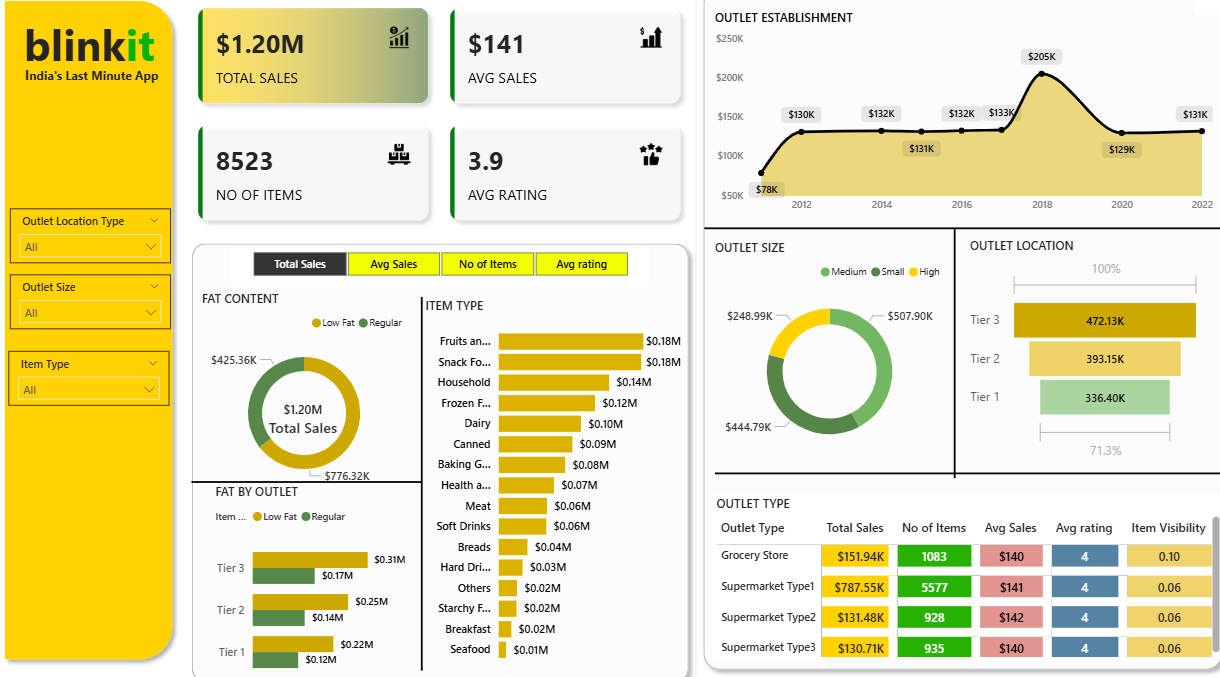

Layout of this report page (visuals, bound fields, positions):
{"tool":"powerbi","page":{"name":"Page 1","canvas":[1400,800],"ordinal":0},"visuals":[{"type":"shape","box":[28.9,24.8,204.6,750.3],"z":0},{"type":"textbox","box":[277,647,204.6,128.2],"z":1000},{"type":"textbox","box":[31,99.2,204.6,88.9],"z":3000},{"type":"cardVisual","fields":{"Data":["BlinkIT Grocery Data.Total Sales","BlinkIT Grocery Data.Avg Sales","BlinkIT Grocery Data.No of Items","BlinkIT Grocery Data.Avg rating"]},"box":[235.6,24.8,570.5,270.8],"z":4000},{"type":"shape","box":[236.2,295.2,569.6,505.4],"z":5000},{"type":"donutChart","title":"FAT CONTENT","fields":{"Y":["BlinkIT Grocery Data.Total Sales"],"Category":["BlinkIT Grocery Data.Item Fat Content"]},"box":[251.8,354.3,236.2,229.2],"z":6000},{"type":"slicer","fields":{"Values":["Metrics.Metrics"]},"box":[288.3,307.4,465.4,39.9],"z":7000},{"type":"cardVisual","fields":{"Data":["BlinkIT Grocery Data.Total Sales"]},"box":[309.1,461.9,121.6,64.3],"z":8000},{"type":"clusteredBarChart","title":"FAT BY OUTLET","fields":{"Y":["BlinkIT Grocery Data.Total Sales"],"Category":["BlinkIT Grocery Data.Outlet Location Type"],"Series":["BlinkIT Grocery Data.Item Fat Content"]},"box":[267.4,569.6,220.6,231],"z":9000},{"type":"shape","box":[244.9,555.7,255.3,27.8],"z":10000},{"type":"shape","box":[479.3,363,41.7,415.1],"z":11000},{"type":"barChart","title":"ITEM TYPE","fields":{"Y":["BlinkIT Grocery Data.Total Sales"],"Category":["BlinkIT Grocery Data.Item Type"]},"box":[500.2,363,293.5,415.1],"z":12000},{"type":"shape","box":[805.8,10.4,593.9,776.3],"z":13000},{"type":"lineChart","title":"OUTLET ESTABLISHMENT","fields":{"Category":["BlinkIT Grocery Data.Outlet Establishment Year"],"Y":["BlinkIT Grocery Data.Total Sales"]},"box":[821.4,43.4,562.7,234.4],"z":14000},{"type":"donutChart","title":"OUTLET SIZE","fields":{"Y":["BlinkIT Grocery Data.Total Sales"],"Category":["BlinkIT Grocery Data.Outlet Size"]},"box":[821.4,298.7,264,250.1],"z":15000},{"type":"shape","box":[814.5,277.9,578.3,17.4],"z":16000},{"type":"shape","box":[1081.9,286.5,22.6,277.9],"z":17000},{"type":"funnel","title":"OUTLET LOCATION","fields":{"Y":["Sum(BlinkIT Grocery Data.Sales)"],"Category":["BlinkIT Grocery Data.Outlet Location Type"]},"box":[1104.5,297,265.7,251.8],"z":18000},{"type":"shape","box":[826.6,555.7,562.7,8.7],"z":19000},{"type":"pivotTable","title":"OUTLET TYPE","fields":{"Rows":["BlinkIT Grocery Data.Outlet Type"],"Values":["BlinkIT Grocery Data.Total Sales","BlinkIT Grocery Data.No of Items","BlinkIT Grocery Data.Avg Sales","BlinkIT Grocery Data.Avg rating","Avg(BlinkIT Grocery Data.Item Visibility)"]},"box":[823.2,583.5,569.6,184.1],"z":20000},{"type":"slicer","fields":{"Values":["BlinkIT Grocery Data.Outlet Location Type"]},"box":[43.4,265.7,178.9,60.8],"z":20001},{"type":"slicer","fields":{"Values":["BlinkIT Grocery Data.Outlet Size"]},"box":[43.4,338.6,178.9,60.8],"z":20002},{"type":"slicer","fields":{"Values":["BlinkIT Grocery Data.Item Type"]},"box":[41.7,423.7,178.9,60.8],"z":20003},{"type":"textbox","box":[29.5,43.4,203.2,112.9],"z":20004}]}

Visuals, with their boxes in screenshot pixels (x1, y1, x2, y2), scaled from the page's 1400x800 canvas onto the 1220x677 screenshot:
shape: pyautogui.locateOnScreen(25, 21, 203, 656)
textbox: pyautogui.locateOnScreen(241, 548, 420, 656)
textbox: pyautogui.locateOnScreen(27, 84, 205, 159)
cardVisual - BlinkIT Grocery Data.Total Sales x BlinkIT Grocery Data.Avg Sales: pyautogui.locateOnScreen(205, 21, 702, 250)
shape: pyautogui.locateOnScreen(206, 250, 702, 676)
"FAT CONTENT" donutChart: pyautogui.locateOnScreen(219, 300, 425, 494)
slicer - Metrics.Metrics: pyautogui.locateOnScreen(251, 260, 657, 294)
cardVisual - BlinkIT Grocery Data.Total Sales: pyautogui.locateOnScreen(269, 391, 375, 445)
"FAT BY OUTLET" clusteredBarChart: pyautogui.locateOnScreen(233, 482, 425, 676)
shape: pyautogui.locateOnScreen(213, 470, 436, 494)
shape: pyautogui.locateOnScreen(418, 307, 454, 658)
"ITEM TYPE" barChart: pyautogui.locateOnScreen(436, 307, 692, 658)
shape: pyautogui.locateOnScreen(702, 9, 1219, 666)
"OUTLET ESTABLISHMENT" lineChart: pyautogui.locateOnScreen(716, 37, 1206, 235)
"OUTLET SIZE" donutChart: pyautogui.locateOnScreen(716, 253, 946, 464)
shape: pyautogui.locateOnScreen(710, 235, 1214, 250)
shape: pyautogui.locateOnScreen(943, 242, 962, 478)
"OUTLET LOCATION" funnel: pyautogui.locateOnScreen(962, 251, 1194, 464)
shape: pyautogui.locateOnScreen(720, 470, 1211, 478)
"OUTLET TYPE" pivotTable: pyautogui.locateOnScreen(717, 494, 1214, 650)
slicer - BlinkIT Grocery Data.Outlet Location Type: pyautogui.locateOnScreen(38, 225, 194, 276)
slicer - BlinkIT Grocery Data.Outlet Size: pyautogui.locateOnScreen(38, 287, 194, 338)
slicer - BlinkIT Grocery Data.Item Type: pyautogui.locateOnScreen(36, 359, 192, 410)
textbox: pyautogui.locateOnScreen(26, 37, 203, 132)
